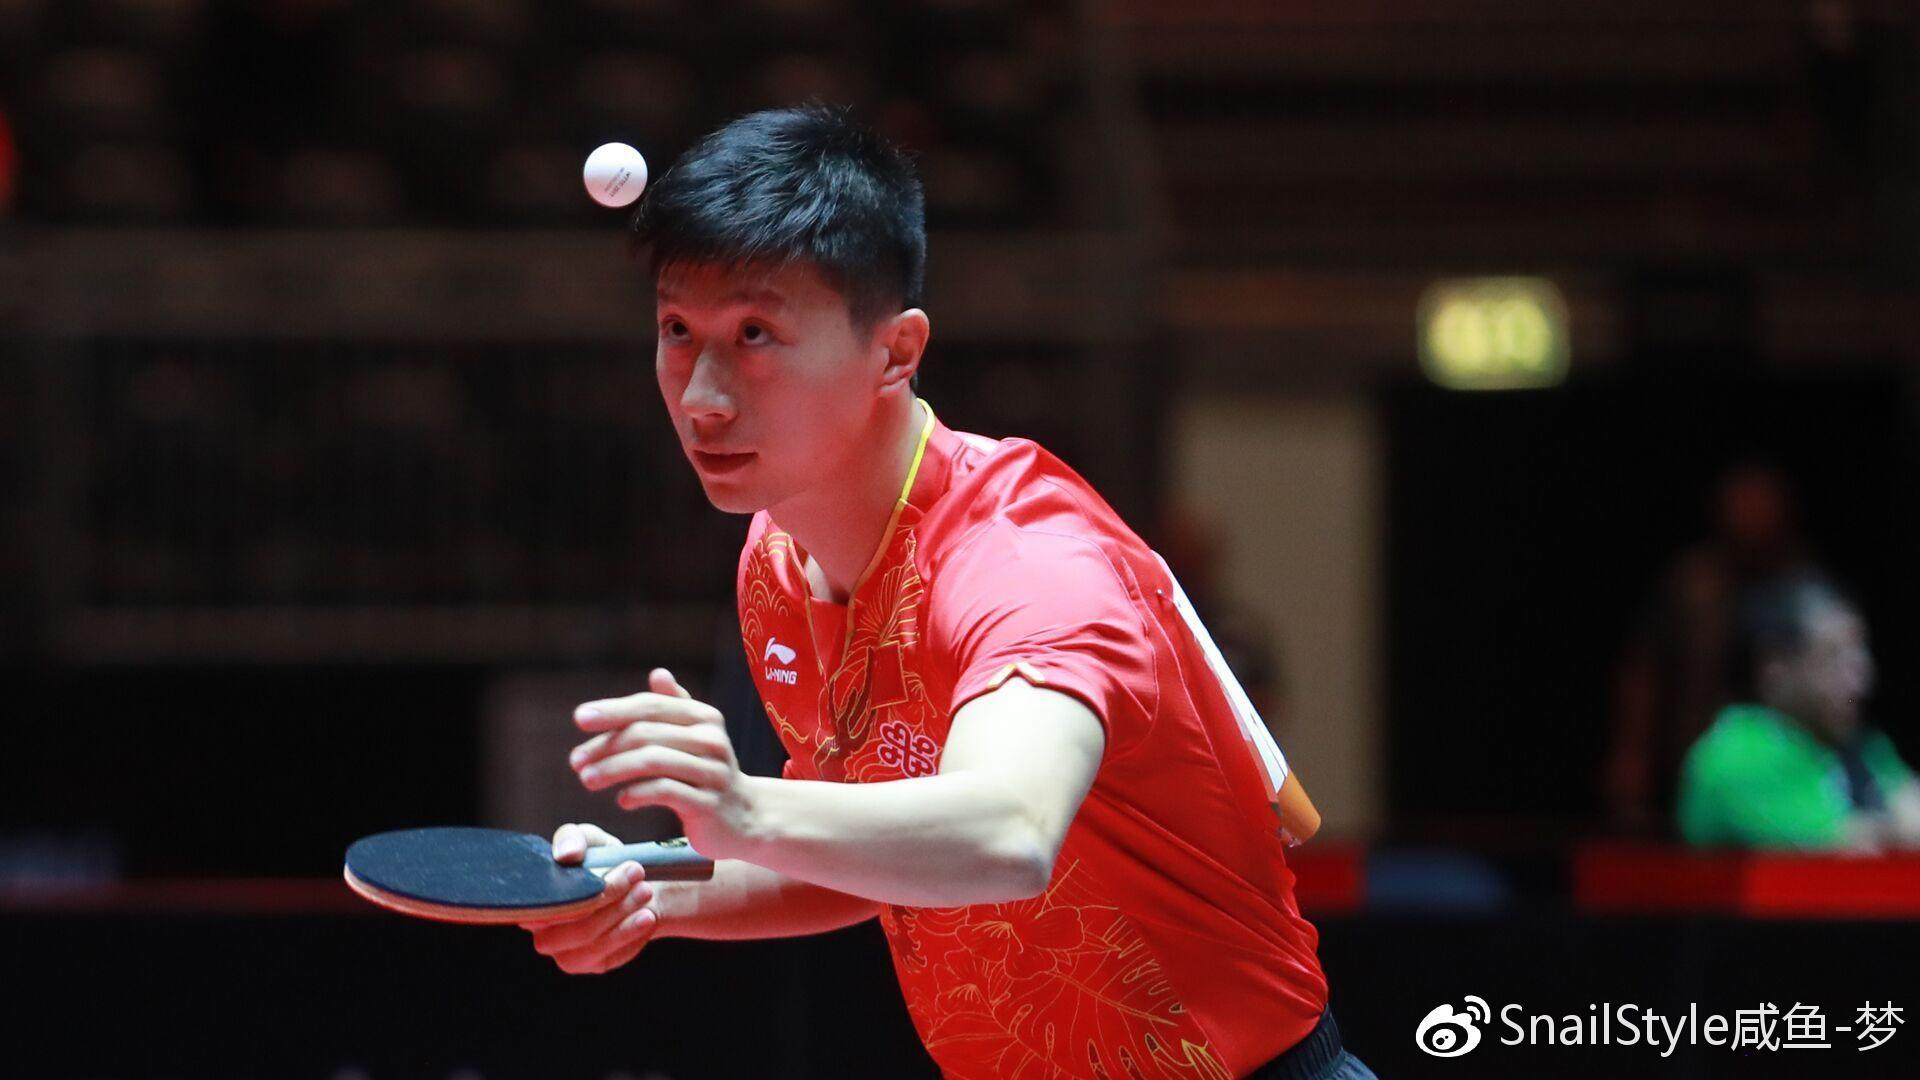ball: (572, 135, 655, 214)
